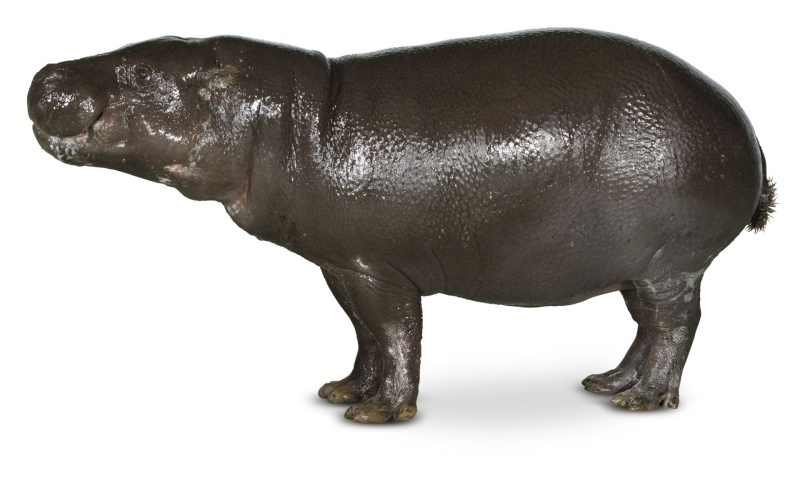hipopotamo: (30, 29, 776, 424)
